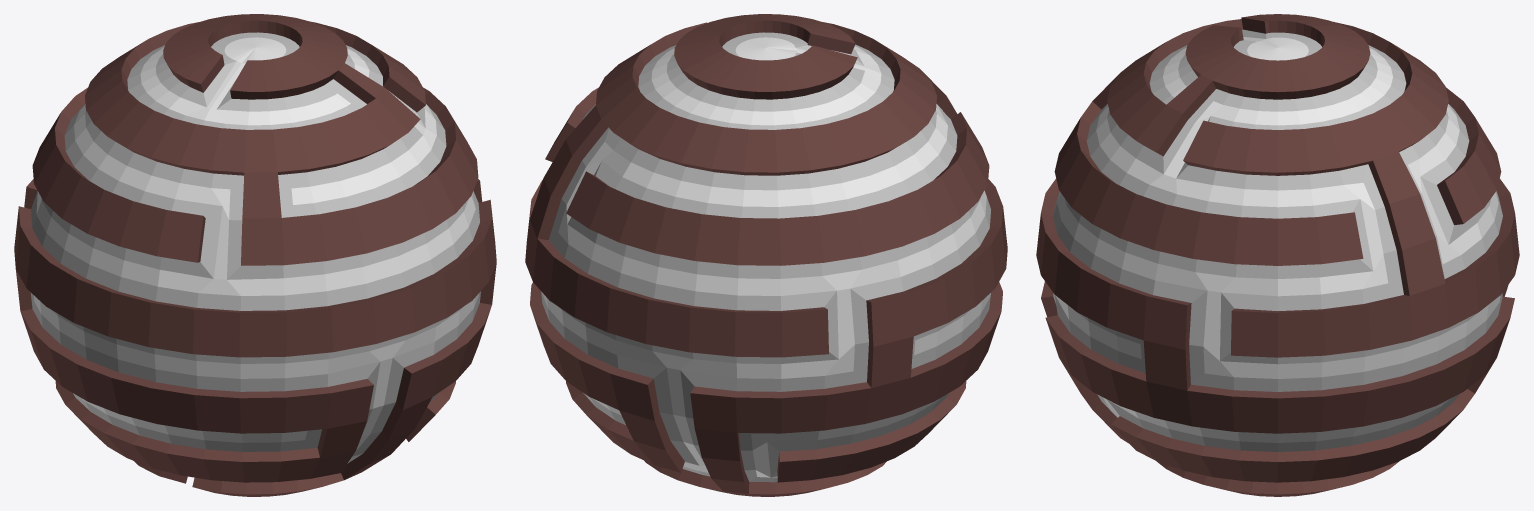
File: une boule mon pote, t'as peur.fbx
3 views of the same model, side by side, from view 1: azimuth 30°, elevation 25°; view 2: azimuth 150°, elevation 25°; view 3: azimuth 270°, elevation 25° (orthographic).
Parts seen in each view (by area): view 1: Sphere.002; view 2: Sphere.002; view 3: Sphere.002.
Part boxes in pixels (x1,y1,x2,y2): Sphere.002: (14,14,496,496); Sphere.002: (525,14,1007,496); Sphere.002: (1036,14,1519,496).
Bounding box in the file's own units: 200 × 198 × 200.
